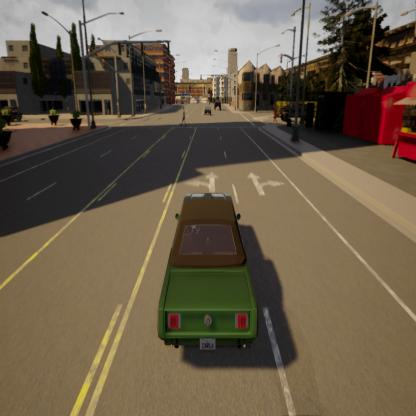Cars: (147, 178, 270, 374)
Pedestrian: (178, 102, 192, 128)
